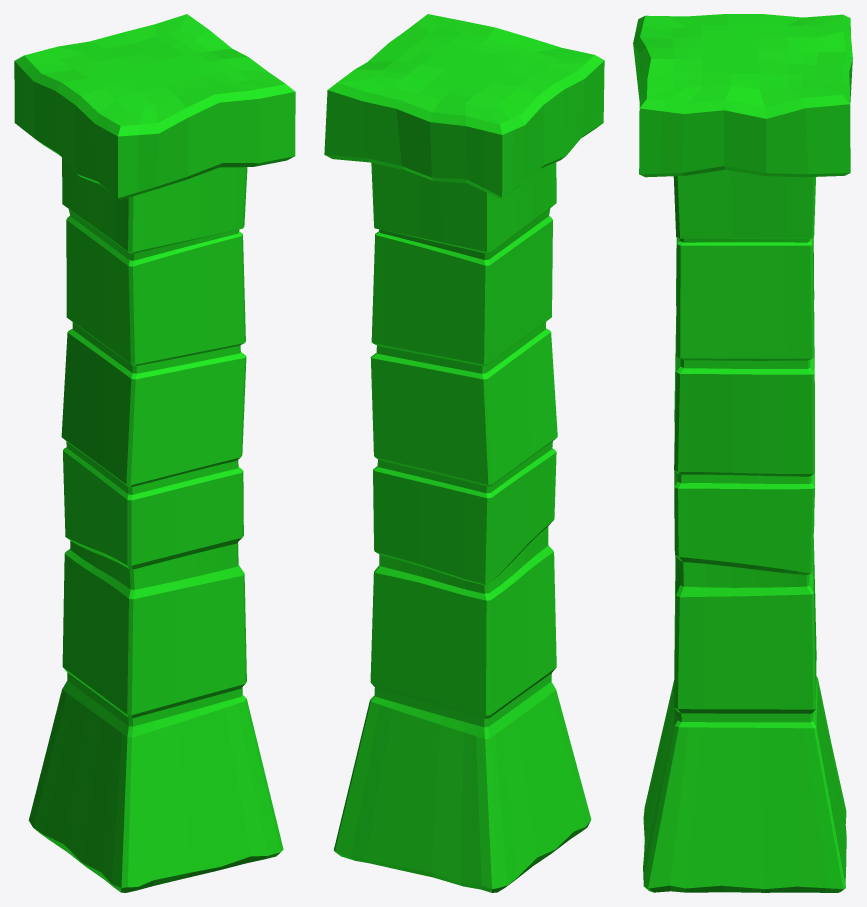
The model's file is Pillar.fbx.
3 views of the same model, side by side, from view 1: azimuth 30°, elevation 25°; view 2: azimuth 150°, elevation 25°; view 3: azimuth 270°, elevation 25° (orthographic). The views are drawn at different scales.
Visible parts, largest first — view 1: Cube; view 2: Cube; view 3: Cube.
Part boxes in pixels (x1,y1,x2,y2): Cube: (14, 14, 295, 892); Cube: (324, 14, 604, 892); Cube: (633, 14, 852, 892).
Size of the model in its own units: 76.09 by 307 by 76.2.
